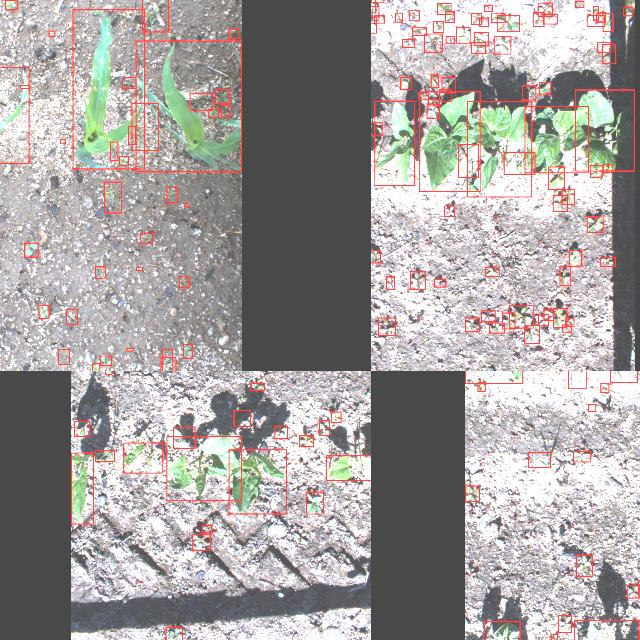crop: (135, 40, 241, 172), (72, 10, 144, 168), (466, 100, 532, 196), (419, 91, 479, 191), (574, 90, 634, 170), (166, 436, 240, 500), (524, 106, 588, 172), (228, 449, 286, 513), (374, 100, 414, 186), (0, 66, 28, 162), (70, 452, 92, 524), (573, 619, 638, 640), (122, 442, 162, 472), (326, 454, 371, 479), (483, 621, 519, 640)
weed: (132, 102, 158, 150), (141, 0, 168, 31), (504, 152, 534, 174), (458, 144, 478, 176), (509, 305, 533, 327), (104, 182, 120, 212), (173, 427, 194, 448), (497, 14, 519, 32), (306, 491, 324, 513), (190, 94, 212, 110), (548, 166, 564, 188), (575, 554, 591, 576), (424, 33, 442, 51), (528, 452, 550, 466), (494, 36, 511, 54), (567, 371, 586, 387), (609, 371, 636, 382), (378, 317, 394, 335), (586, 216, 604, 232), (192, 533, 210, 549), (233, 410, 250, 426), (552, 195, 568, 211), (524, 325, 538, 343), (410, 271, 424, 289), (602, 44, 616, 62), (162, 348, 172, 371), (160, 356, 175, 371), (441, 76, 455, 92), (165, 626, 181, 640), (74, 420, 88, 436), (464, 485, 478, 501), (554, 308, 566, 326), (586, 14, 604, 26), (558, 614, 570, 632), (572, 451, 590, 462), (24, 242, 38, 256), (215, 89, 229, 103), (465, 317, 479, 331), (522, 85, 536, 99), (456, 28, 470, 42), (538, 2, 552, 16), (626, 584, 640, 598), (166, 186, 178, 202), (502, 312, 514, 328), (569, 249, 581, 265), (562, 188, 574, 204), (95, 450, 114, 460), (560, 266, 570, 284), (603, 13, 613, 31), (122, 76, 136, 88), (426, 103, 438, 117), (437, 2, 451, 14), (474, 32, 488, 44), (532, 12, 544, 26), (299, 434, 313, 446), (274, 426, 288, 438), (58, 348, 68, 364), (66, 308, 76, 324), (488, 322, 504, 332), (600, 256, 616, 266), (470, 42, 486, 52), (542, 13, 558, 23), (110, 142, 118, 160), (590, 165, 602, 177), (439, 89, 451, 101), (539, 81, 551, 93), (182, 343, 192, 357), (38, 304, 48, 318), (481, 310, 495, 320), (485, 266, 499, 276), (597, 41, 611, 51), (491, 12, 505, 22), (319, 420, 329, 434), (432, 20, 443, 32), (371, 121, 381, 134), (99, 355, 111, 365), (95, 266, 105, 278), (140, 233, 152, 243), (179, 275, 189, 287), (228, 28, 240, 38), (543, 308, 553, 320), (400, 77, 410, 89), (444, 10, 454, 22), (471, 12, 481, 24), (412, 26, 426, 34), (250, 382, 264, 390), (128, 126, 134, 144), (371, 249, 379, 262), (538, 314, 548, 324), (444, 205, 454, 215), (409, 10, 419, 20), (596, 12, 606, 22), (331, 412, 341, 422), (222, 104, 230, 116), (4, 0, 16, 8), (430, 74, 438, 86), (402, 39, 414, 47), (386, 276, 394, 288), (433, 278, 445, 286), (371, 5, 377, 20), (478, 18, 488, 27), (592, 6, 598, 20), (118, 156, 128, 164), (208, 109, 218, 117), (564, 317, 574, 325), (562, 324, 572, 332), (602, 164, 612, 172), (394, 12, 402, 22), (201, 524, 211, 532), (600, 382, 608, 392), (624, 7, 632, 16), (476, 382, 484, 391), (428, 98, 438, 105), (373, 15, 383, 22), (371, 16, 375, 32), (418, 92, 428, 98), (574, 0, 584, 6), (92, 363, 99, 371), (587, 404, 595, 411), (637, 579, 640, 597), (549, 633, 556, 640), (446, 36, 454, 42), (484, 5, 492, 11), (48, 30, 54, 36), (20, 84, 28, 88), (136, 266, 142, 270), (60, 138, 64, 144), (104, 371, 111, 374), (126, 348, 134, 350), (186, 202, 188, 206)
